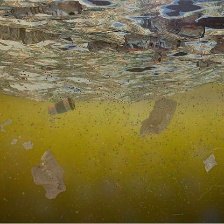paper_cup: (45, 95, 76, 119)
plastic_bag: (136, 93, 185, 140), (29, 148, 68, 202)
